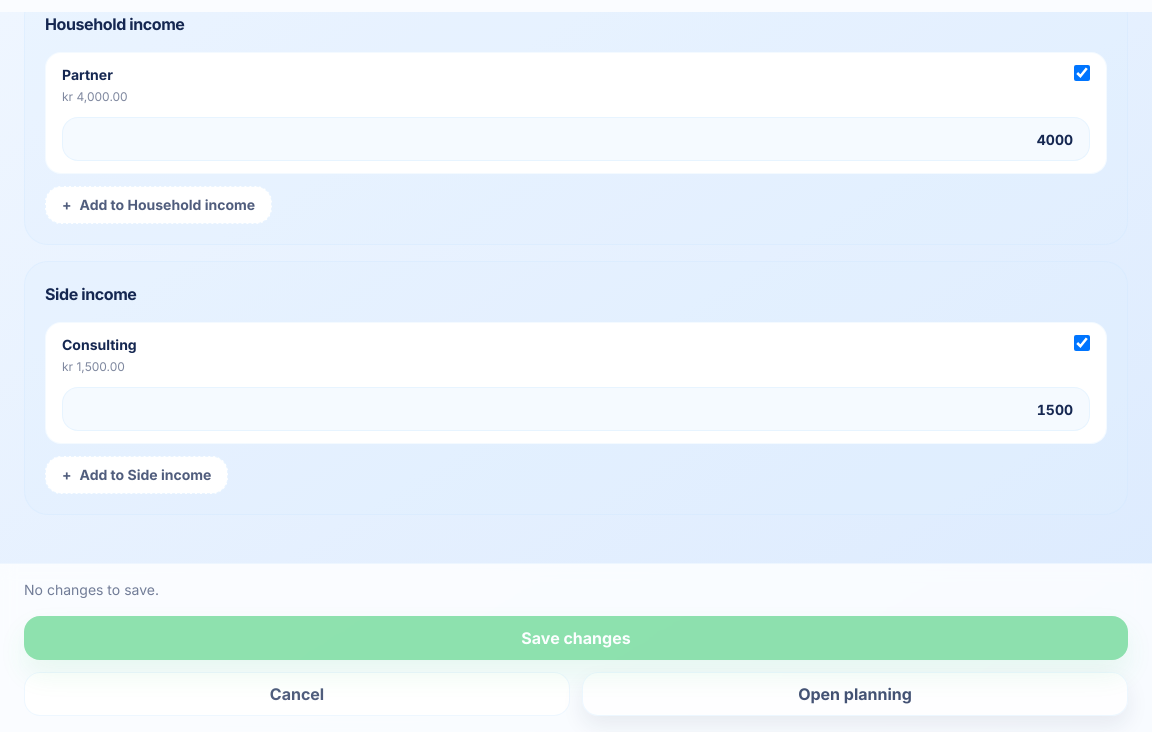
IncomePanel - PR D income depth › opening one group's inline create hides the other group's Add button
Click the button with test id "income-group-add-sideHustle" at (137, 475), box [45,456,228,494]
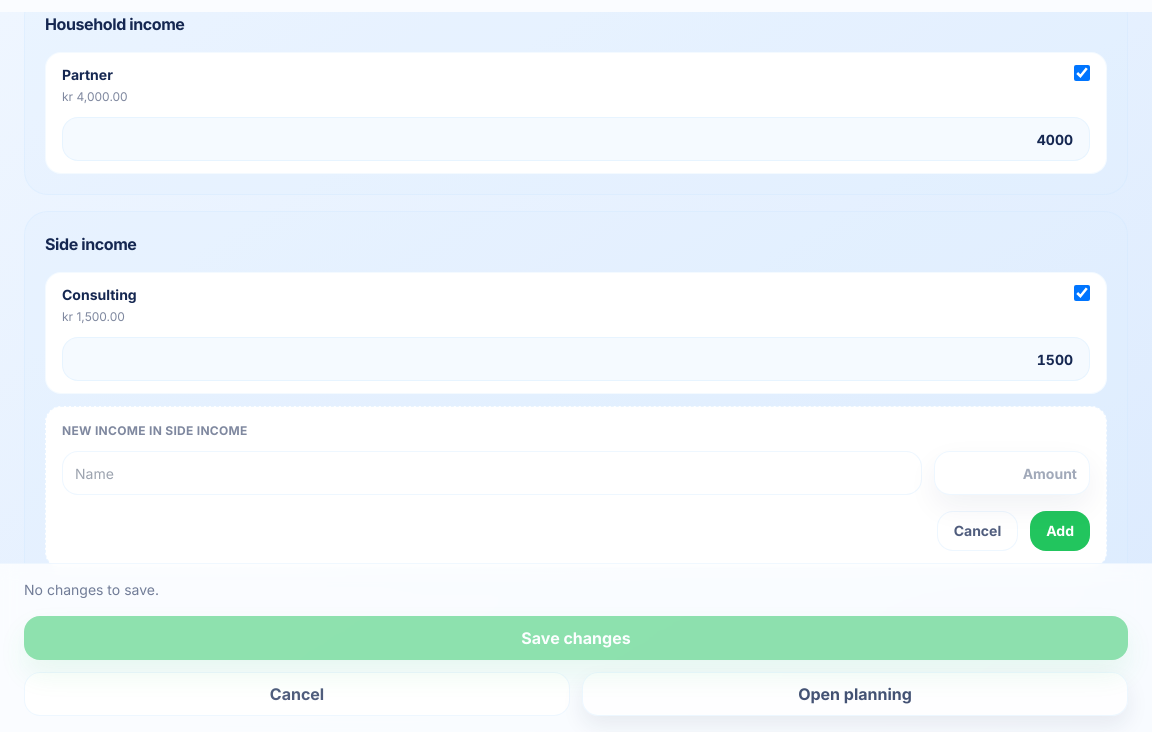
expect the form with test id "inline-create-income-sideHustle" is shown: met, box [45,406,1107,568]
expect the button with test id "income-group-add-householdMember" is gone: met
expect the button with test id "income-group-add-sideHustle" is gone: met
